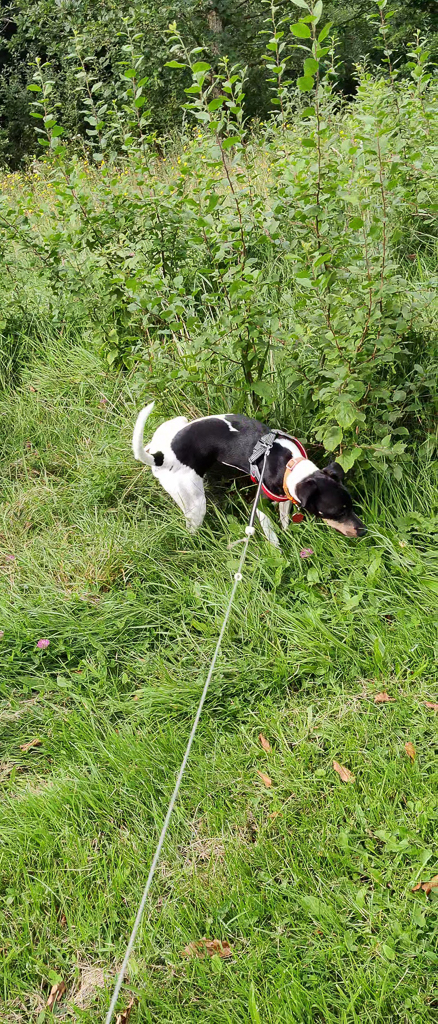Dog: (116, 389, 393, 564)
